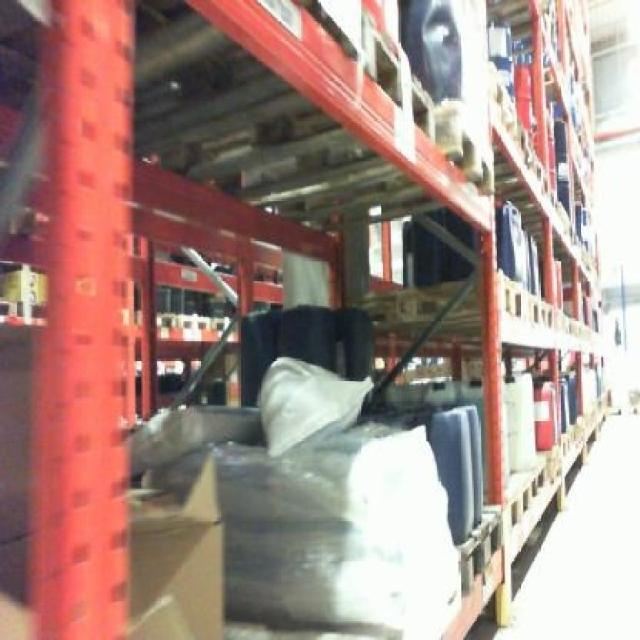pallets: (228, 354, 329, 440)
